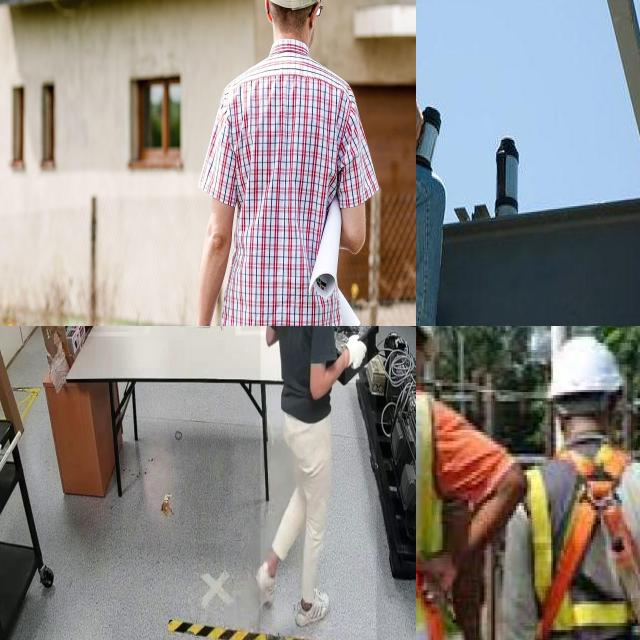Harness: (534, 449, 640, 640)
No_Ear-Protection: (263, 0, 329, 54)
hand_glove: (345, 332, 367, 383)
person: (260, 326, 377, 640)
shoes: (292, 584, 331, 627), (256, 558, 278, 606)
